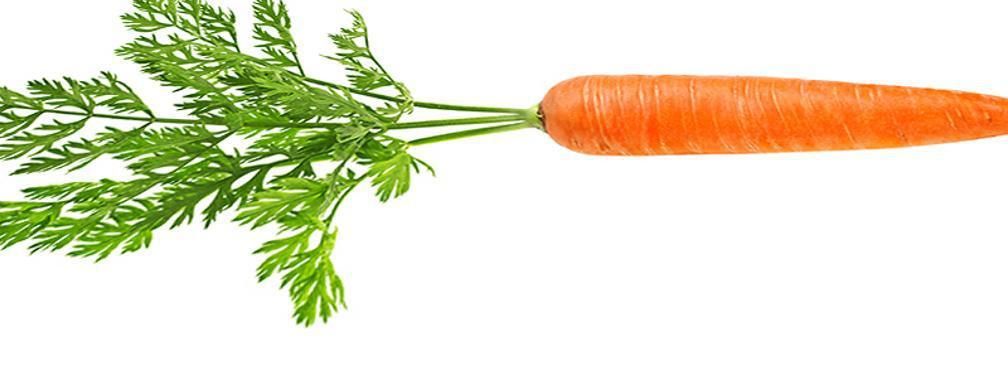carrot: (21, 35, 1008, 213)
